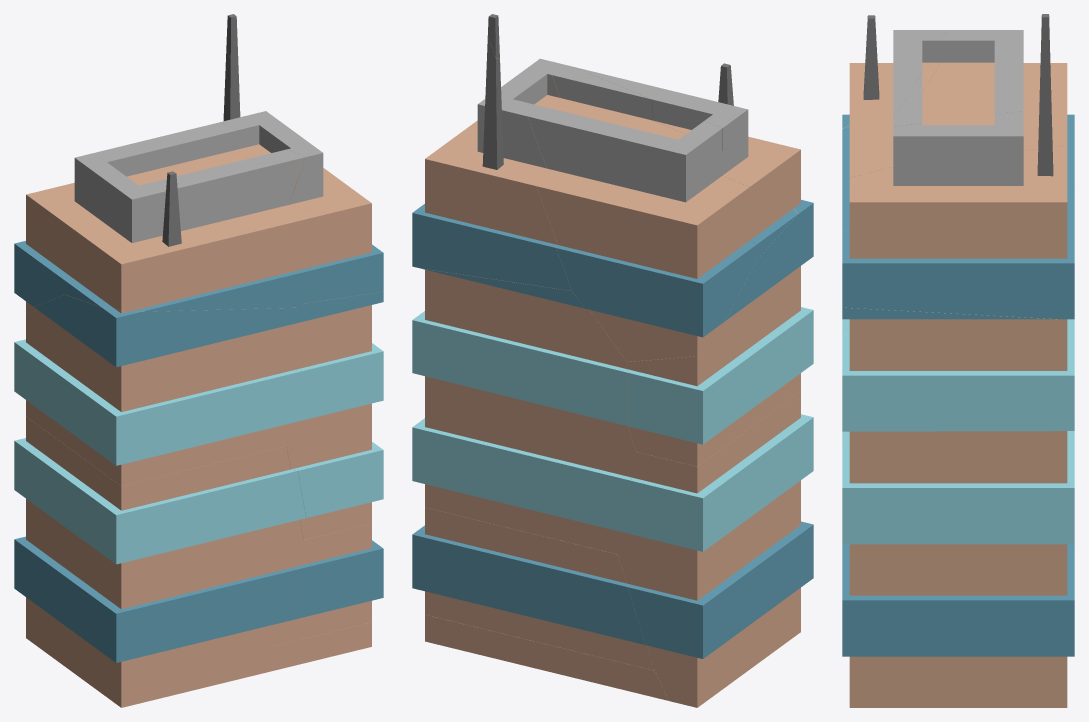
Rendered from BigHouse 1.1 Fractured.fbx.
The picture shows the model from 3 angles, left to right: view 1: azimuth 30°, elevation 25°; view 2: azimuth 150°, elevation 25°; view 3: azimuth 270°, elevation 25°; orthographic projection. The views are drawn at different scales.
Visible parts, largest first — view 1: BigHouse_Type1_1_Breaking_cell.003, BigHouse_Type1_1_Breaking_cell.004, BigHouse_Type1_1_Breaking_cell.009, BigHouse_Type1_1_Breaking_cell, BigHouse_Type1_1_Breaking_cell.002, BigHouse_Type1_1_Breaking_cell.005, BigHouse_Type1_1_Breaking_cell.006, BigHouse_Type1_1_Breaking_cell.007, BigHouse_Type1_1_Breaking_cell.008; view 2: BigHouse_Type1_1_Breaking_cell, BigHouse_Type1_1_Breaking_cell.003, BigHouse_Type1_1_Breaking_cell.005, BigHouse_Type1_1_Breaking_cell.004, BigHouse_Type1_1_Breaking_cell.007, BigHouse_Type1_1_Breaking_cell.002, BigHouse_Type1_1_Breaking_cell.006, BigHouse_Type1_1_Breaking_cell.009, BigHouse_Type1_1_Breaking_cell.008; view 3: BigHouse_Type1_1_Breaking_cell.002, BigHouse_Type1_1_Breaking_cell.005, BigHouse_Type1_1_Breaking_cell.006, BigHouse_Type1_1_Breaking_cell.007, BigHouse_Type1_1_Breaking_cell, BigHouse_Type1_1_Breaking_cell.009, BigHouse_Type1_1_Breaking_cell.008.
Boxes of the visible parts, x1,y1,x2,y2 form: BigHouse_Type1_1_Breaking_cell.003: (14,416,305,707); BigHouse_Type1_1_Breaking_cell.004: (14,294,301,485); BigHouse_Type1_1_Breaking_cell.009: (64,160,327,311); BigHouse_Type1_1_Breaking_cell: (14,14,305,314); BigHouse_Type1_1_Breaking_cell.002: (220,39,383,303); BigHouse_Type1_1_Breaking_cell.005: (286,403,383,539); BigHouse_Type1_1_Breaking_cell.006: (295,291,383,420); BigHouse_Type1_1_Breaking_cell.007: (269,523,383,646); BigHouse_Type1_1_Breaking_cell.008: (256,622,371,674); BigHouse_Type1_1_Breaking_cell: (488,14,757,361); BigHouse_Type1_1_Breaking_cell.003: (617,391,813,707); BigHouse_Type1_1_Breaking_cell.005: (412,376,636,554); BigHouse_Type1_1_Breaking_cell.004: (627,199,813,466); BigHouse_Type1_1_Breaking_cell.007: (412,507,654,670); BigHouse_Type1_1_Breaking_cell.002: (412,36,571,290); BigHouse_Type1_1_Breaking_cell.006: (412,268,627,425); BigHouse_Type1_1_Breaking_cell.009: (572,63,800,258); BigHouse_Type1_1_Breaking_cell.008: (425,614,668,700); BigHouse_Type1_1_Breaking_cell.002: (842,38,1074,319); BigHouse_Type1_1_Breaking_cell.005: (842,431,1074,567); BigHouse_Type1_1_Breaking_cell.006: (842,307,1074,431); BigHouse_Type1_1_Breaking_cell.007: (842,544,1074,679); BigHouse_Type1_1_Breaking_cell: (893,14,1074,190); BigHouse_Type1_1_Breaking_cell.009: (842,15,946,225); BigHouse_Type1_1_Breaking_cell.008: (849,680,1067,707).
Size of the model in its own units: 577 by 1198 by 380.
